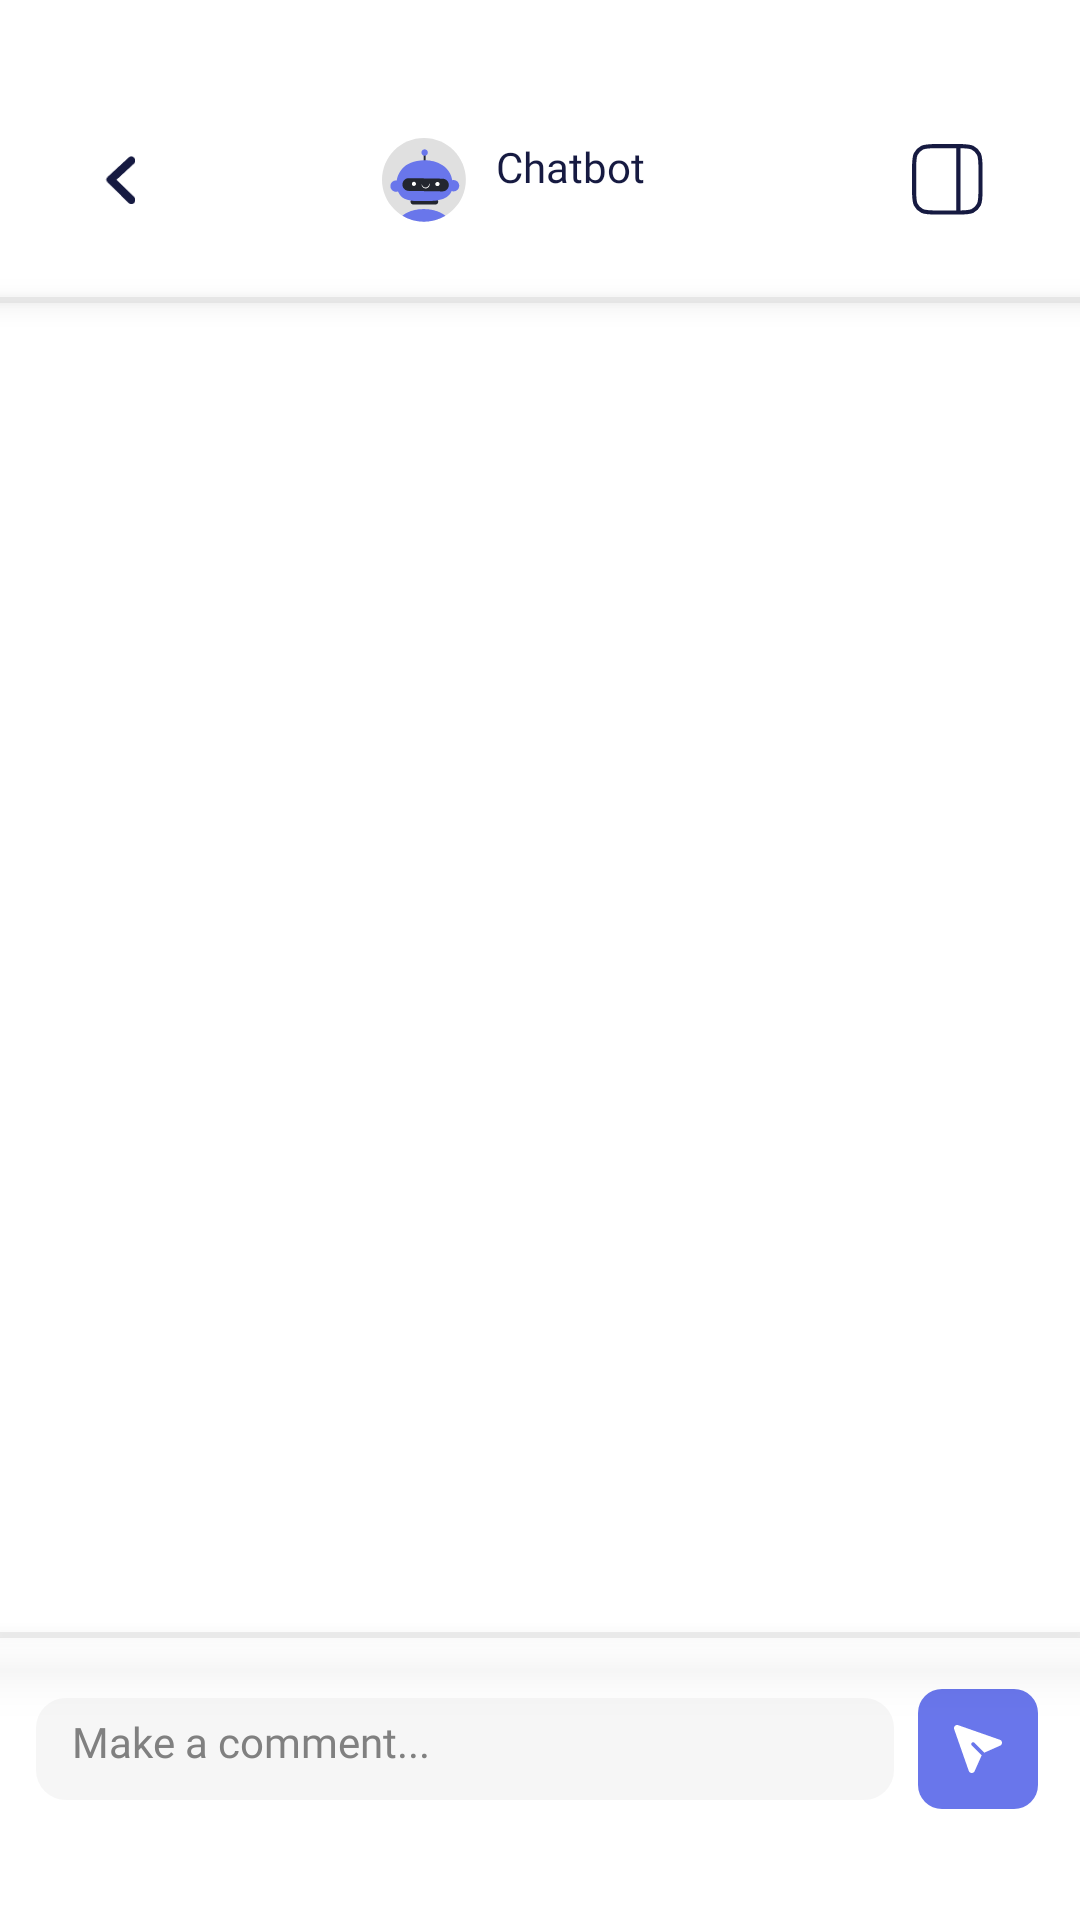

Icons on this 1080px×1920px Android screen, each with the point to tap as (x=x, y=y):
Send comment: (x=978, y=1749)
side chatbot: (x=947, y=179)
